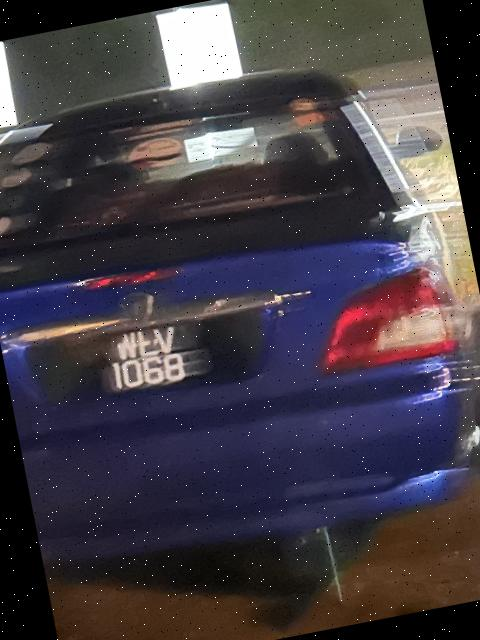License_Plate: (43, 308, 251, 414)
car: (1, 35, 480, 582)
